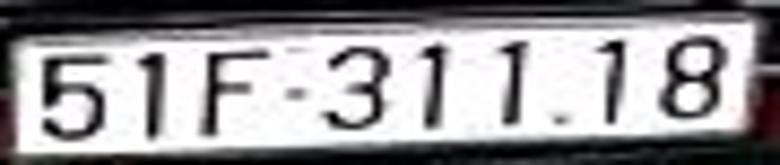-: (281, 87, 309, 102)
.: (551, 112, 572, 126)
1: (133, 49, 167, 141), (414, 41, 448, 133), (595, 35, 629, 125), (494, 38, 528, 125)
3: (321, 44, 390, 132)
5: (38, 51, 113, 140)
8: (655, 32, 729, 122)
F: (201, 47, 273, 142)
